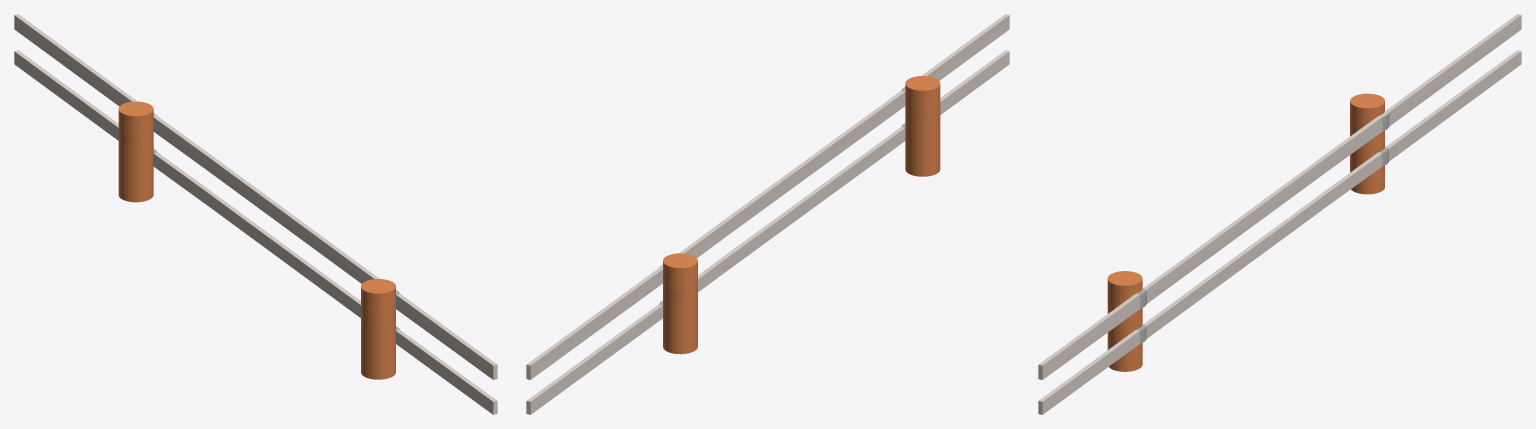
Rendered from Fencadillo.fbx.
3 views of the same model, side by side, from view 1: azimuth 30°, elevation 25°; view 2: azimuth 150°, elevation 25°; view 3: azimuth 330°, elevation 25° (orthographic).
Visible parts, largest first — view 1: Circle; view 2: Circle; view 3: Circle.
Boxes of the visible parts, x1,y1,x2,y2 form: Circle: [14, 14, 497, 414]; Circle: [526, 14, 1009, 414]; Circle: [1038, 14, 1521, 414].
Bounding box in the file's own units: 33.1 × 78.34 × 791.
